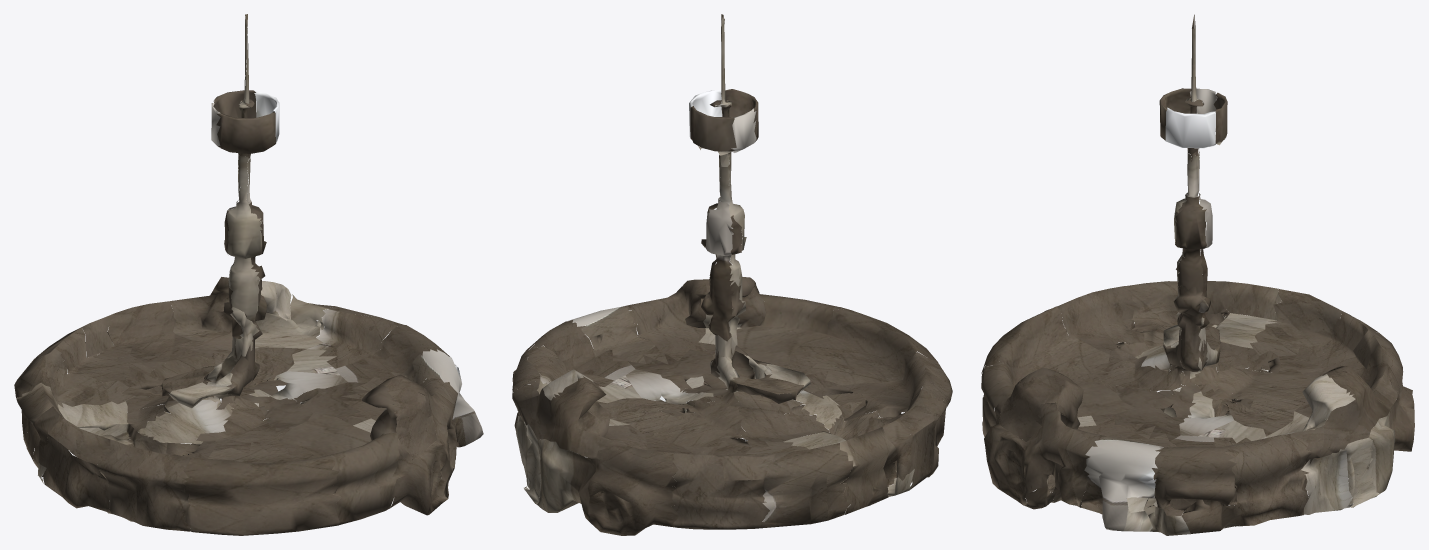
The model's file is env_light_oval_panel_01.glb.
The picture shows the model from 3 angles, left to right: view 1: azimuth 30°, elevation 25°; view 2: azimuth 150°, elevation 25°; view 3: azimuth 270°, elevation 25°; orthographic projection. The views are drawn at different scales.
Parts seen in each view (by area): view 1: tripo_node_70cb12e9-3682-4b03-8adf-989378005b31; view 2: tripo_node_70cb12e9-3682-4b03-8adf-989378005b31; view 3: tripo_node_70cb12e9-3682-4b03-8adf-989378005b31.
Part boxes in pixels (<box>): tripo_node_70cb12e9-3682-4b03-8adf-989378005b31: <box>14,14,483,535</box>; tripo_node_70cb12e9-3682-4b03-8adf-989378005b31: <box>512,14,952,535</box>; tripo_node_70cb12e9-3682-4b03-8adf-989378005b31: <box>981,14,1414,535</box>.
Size of the model in its own units: 0.9066 by 0.9974 by 0.8916.
Materials: 1 (1 with a texture image).
